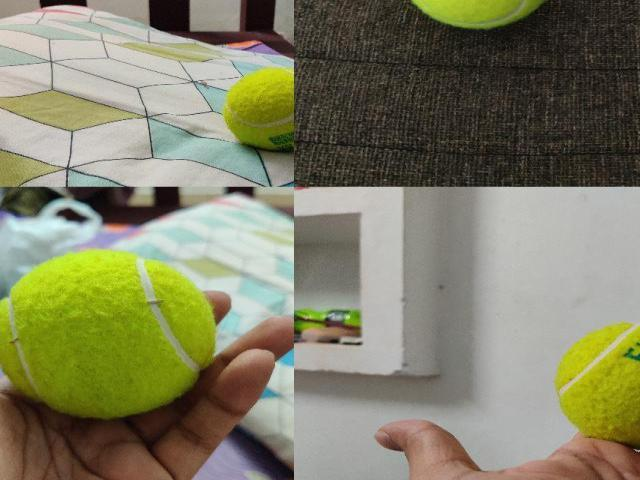tennis-ball: (0, 248, 219, 420), (554, 322, 639, 450), (222, 66, 293, 152), (399, 0, 557, 30)
